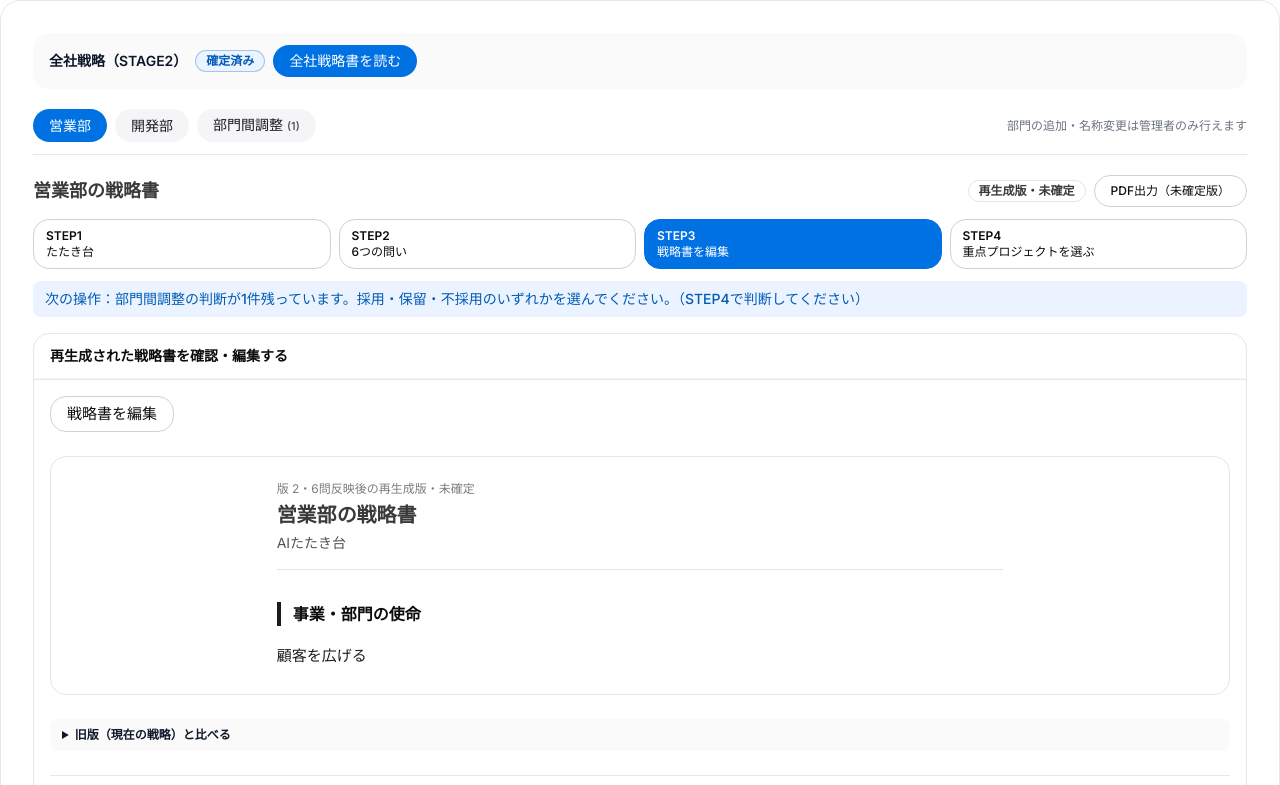
Test: 部門間調整の表示（課題12・15） › AI調整案は途中で切らずに全文を表示する
The image size is (1280, 785).
Click the button "部門間調整(1)" at (256, 126), box x1=197 y1=109 x2=316 y2=142
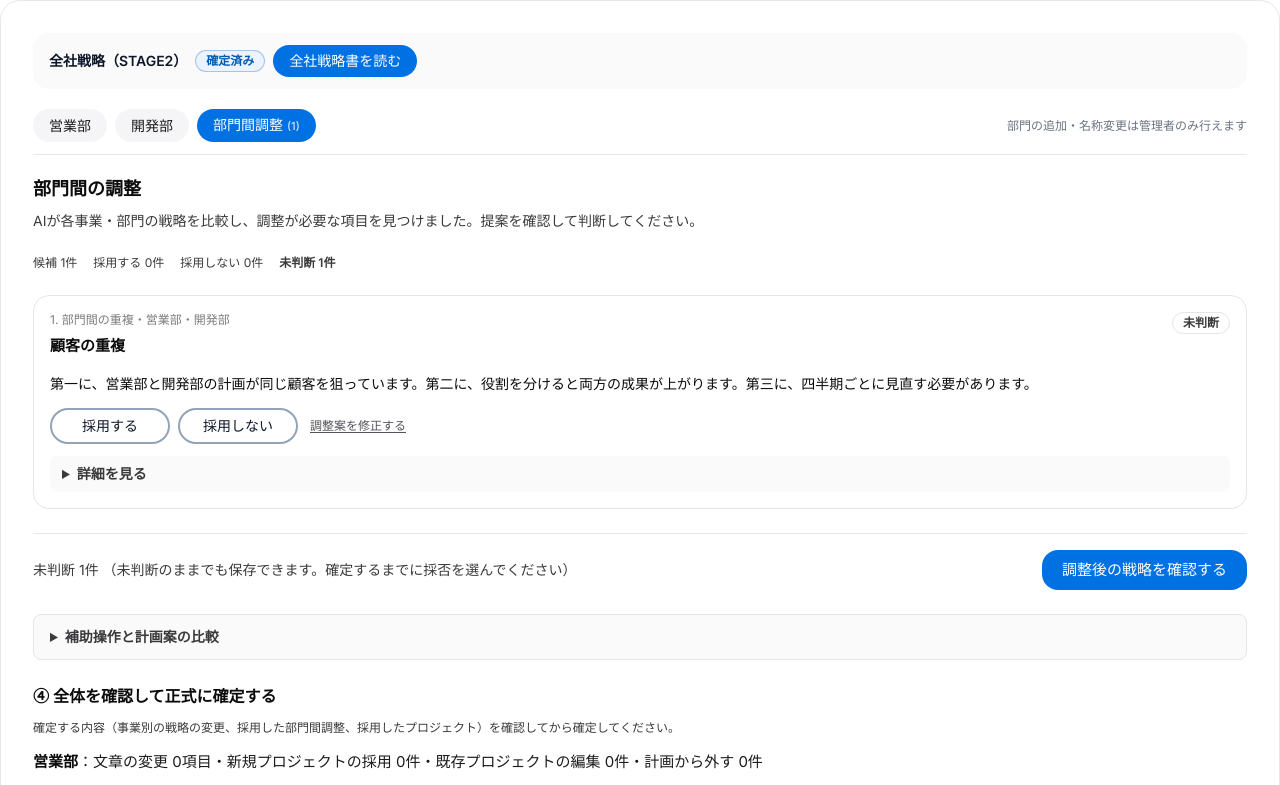
Expected: the text "第一に、営業部と開発部の計画が同じ顧客を狙っています。第二に、役割を分けると両方の成果が上がります。第三に、四半期ごとに見直す必要があります。" is shown, x1=50 y1=375 x2=1038 y2=392
